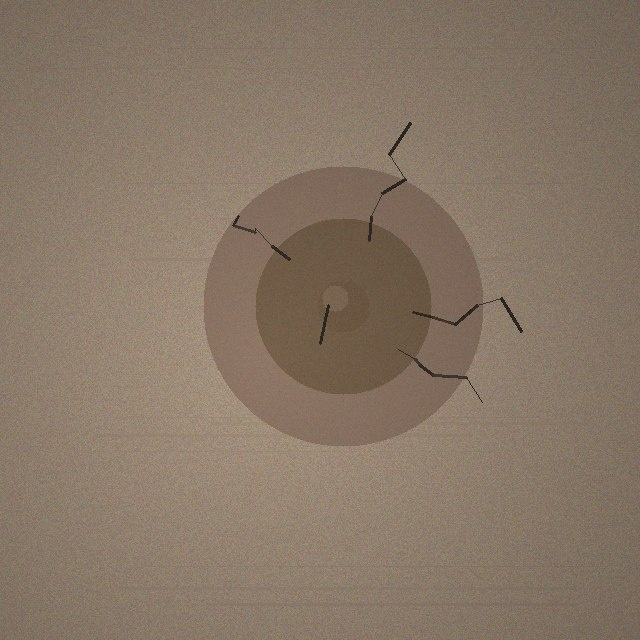crack: (203, 166, 483, 446)
